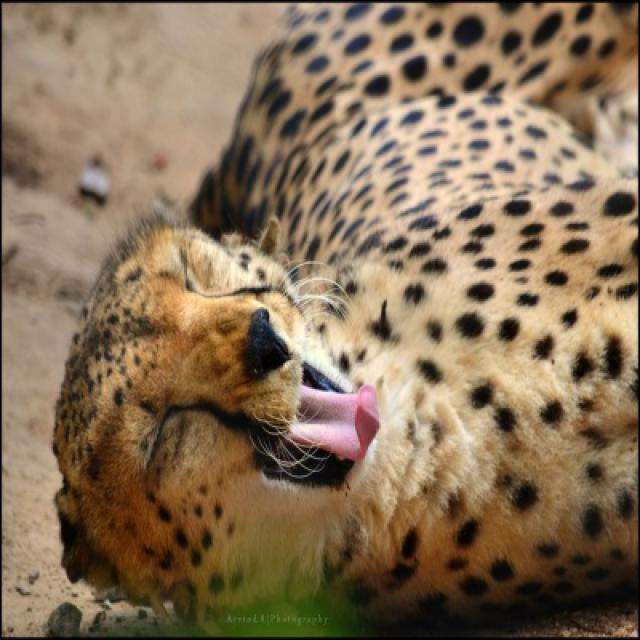Cheetah: (51, 2, 638, 634)
